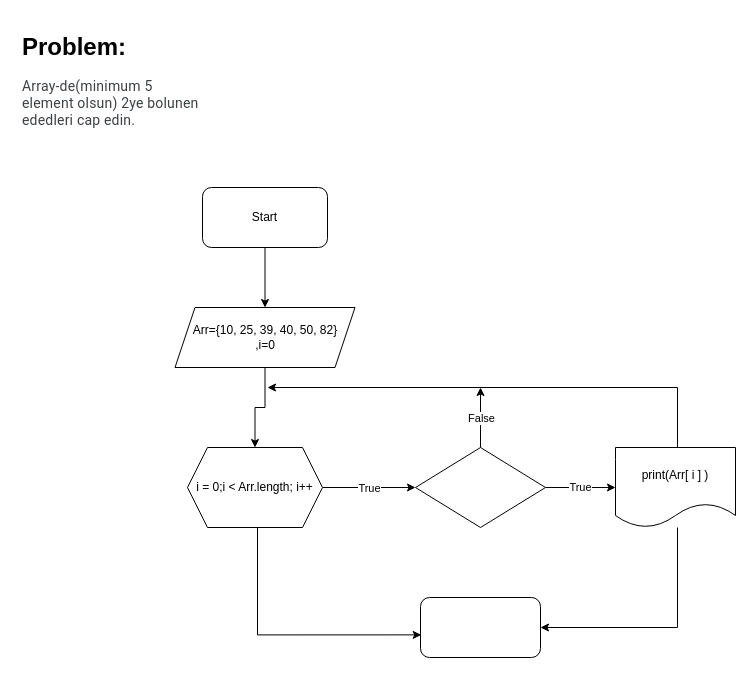
Some shapes in this 753 by 675 pixel diagram are drawn without their labels. The centre of each missing label's shape, as x and y in pixels:
"Arr[ i ] % 2 == 0" belongs at (480,487).
"End" belongs at (480,627).
